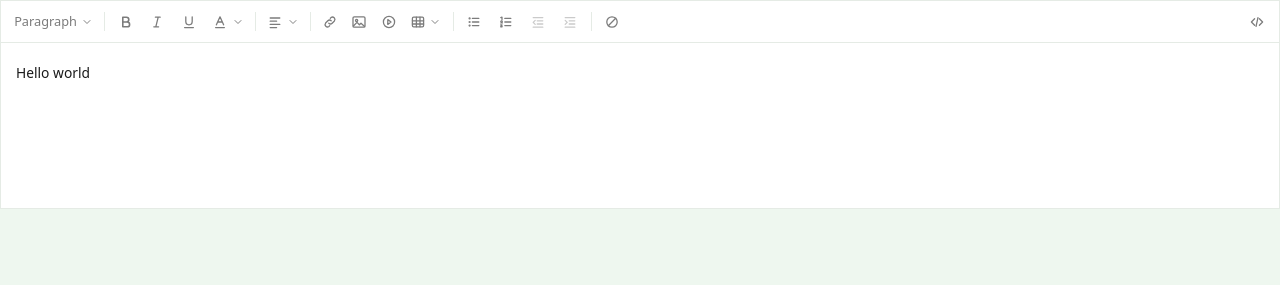
Test case: RichTextEditor › images › only takes https addresses
Click the button named "Insert image" at coordinates (359, 22), box [346,7,373,37]
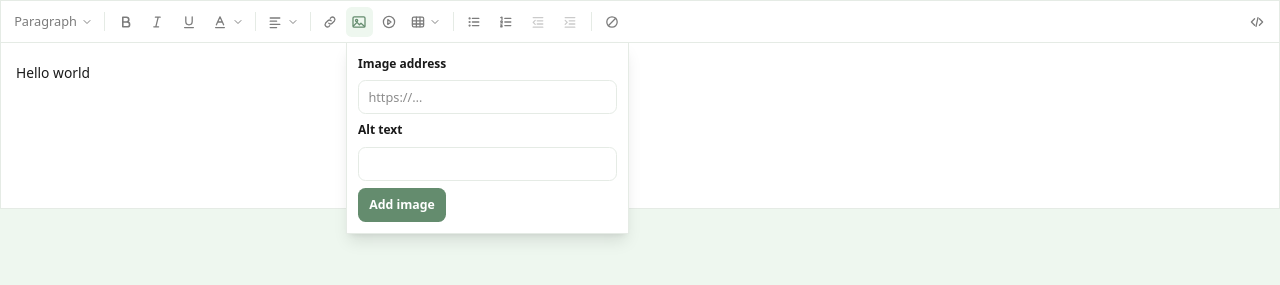
Type "http://insecure.example.com/a.jpg" into the field labelled "Image address" at coordinates (487, 97), box [358,80,617,114]
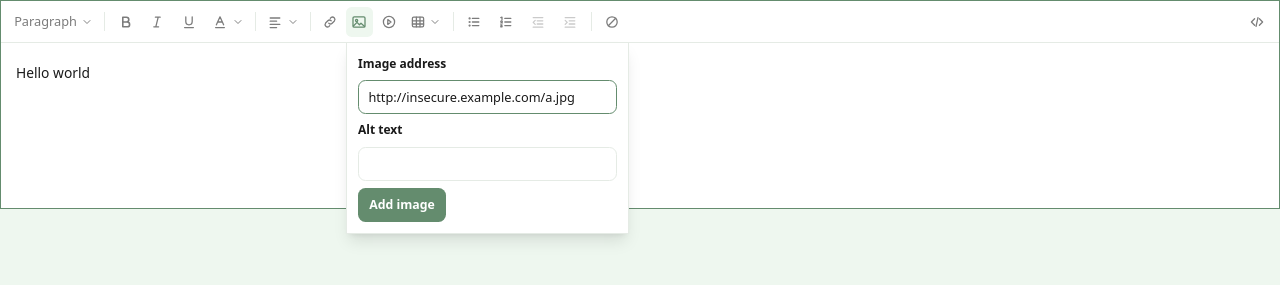
Click the button "Add image" at coordinates (402, 205), box [358,188,446,222]
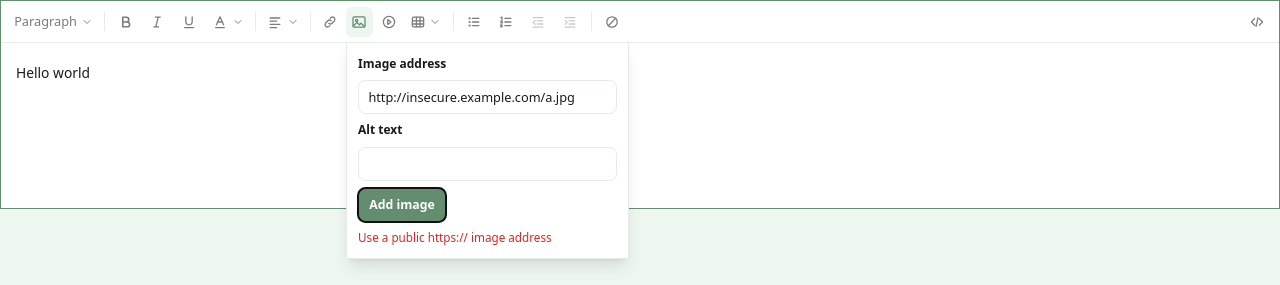
Check: the message shows "https", box [358,229,552,245]
